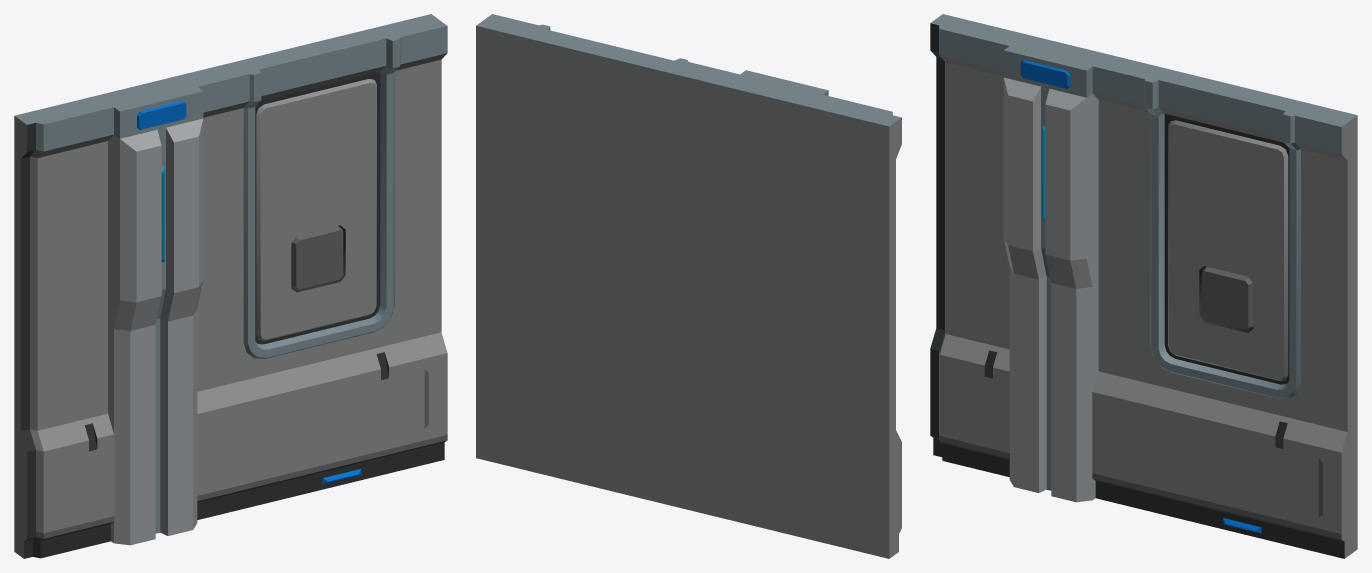
Rendered from Wall_type_B_047.fbx.
3 renders of one model, left to right at view 1: azimuth 30°, elevation 25°; view 2: azimuth 150°, elevation 25°; view 3: azimuth 330°, elevation 25°, orthographic.
Visible parts, largest first — view 1: Wall_type_B_047; view 2: Wall_type_B_047; view 3: Wall_type_B_047.
Boxes of the visible parts, bbox=[...] form: Wall_type_B_047: bbox=[14, 14, 447, 558]; Wall_type_B_047: bbox=[476, 14, 901, 558]; Wall_type_B_047: bbox=[930, 14, 1357, 558].
Bounding box in the file's own units: 400 × 46.98 × 400.
